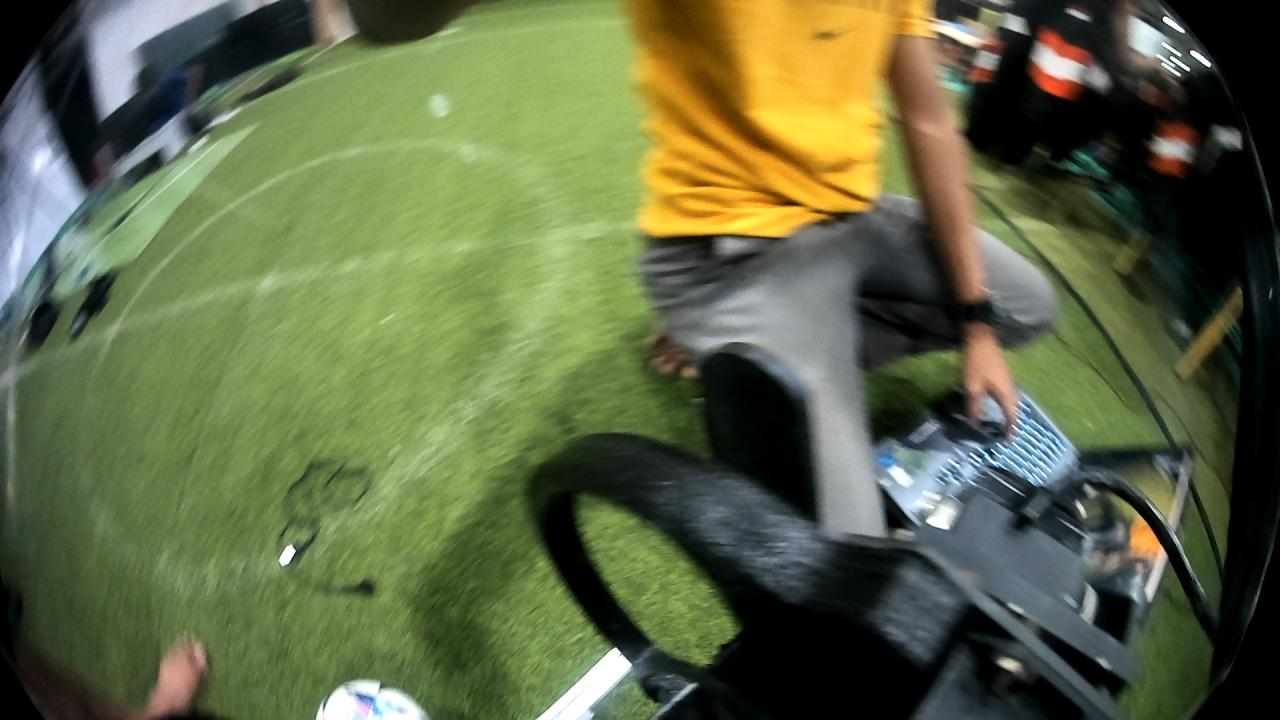ball: (307, 672, 437, 720)
